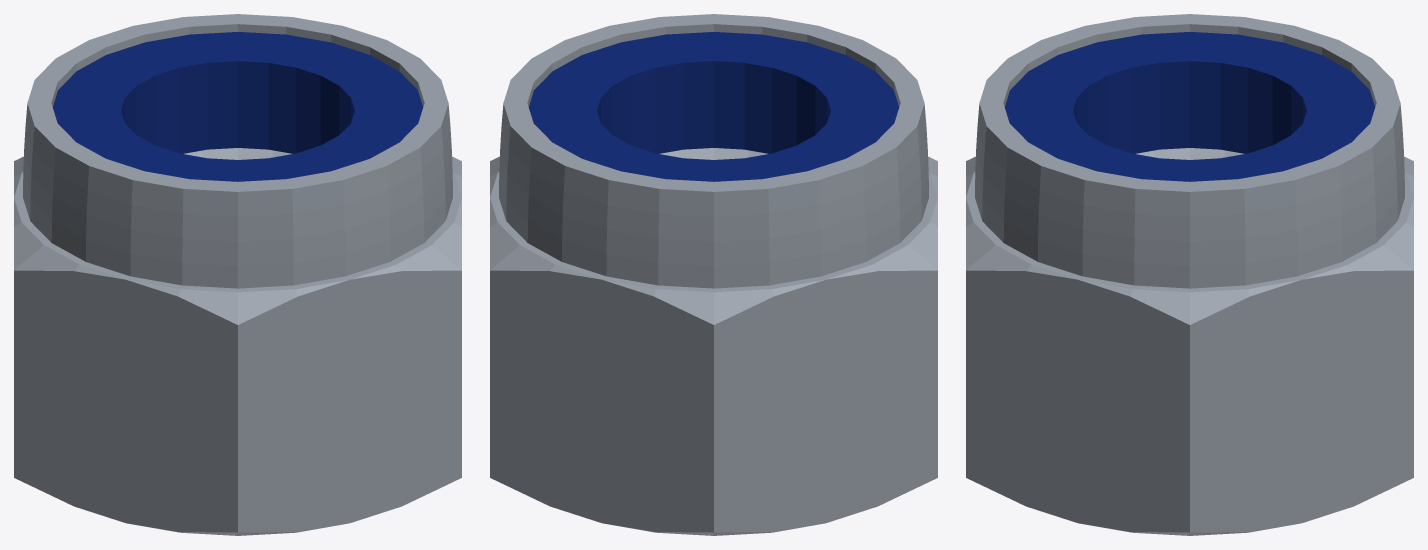
File: model_display.glb
3 views of the same model, side by side, from view 1: azimuth 30°, elevation 25°; view 2: azimuth 150°, elevation 25°; view 3: azimuth 270°, elevation 25° (orthographic).
Visible parts, largest first — view 1: steel, nylon_insert; view 2: steel, nylon_insert; view 3: steel, nylon_insert.
Boxes of the visible parts, <box> form: steel: <box>14,14,461,535</box>; nylon_insert: <box>52,32,423,181</box>; steel: <box>490,14,937,535</box>; nylon_insert: <box>528,32,899,181</box>; steel: <box>966,14,1413,535</box>; nylon_insert: <box>1004,32,1375,181</box>.
Bounding box in the file's own units: 0.0026 × 0.00187 × 0.00225.
